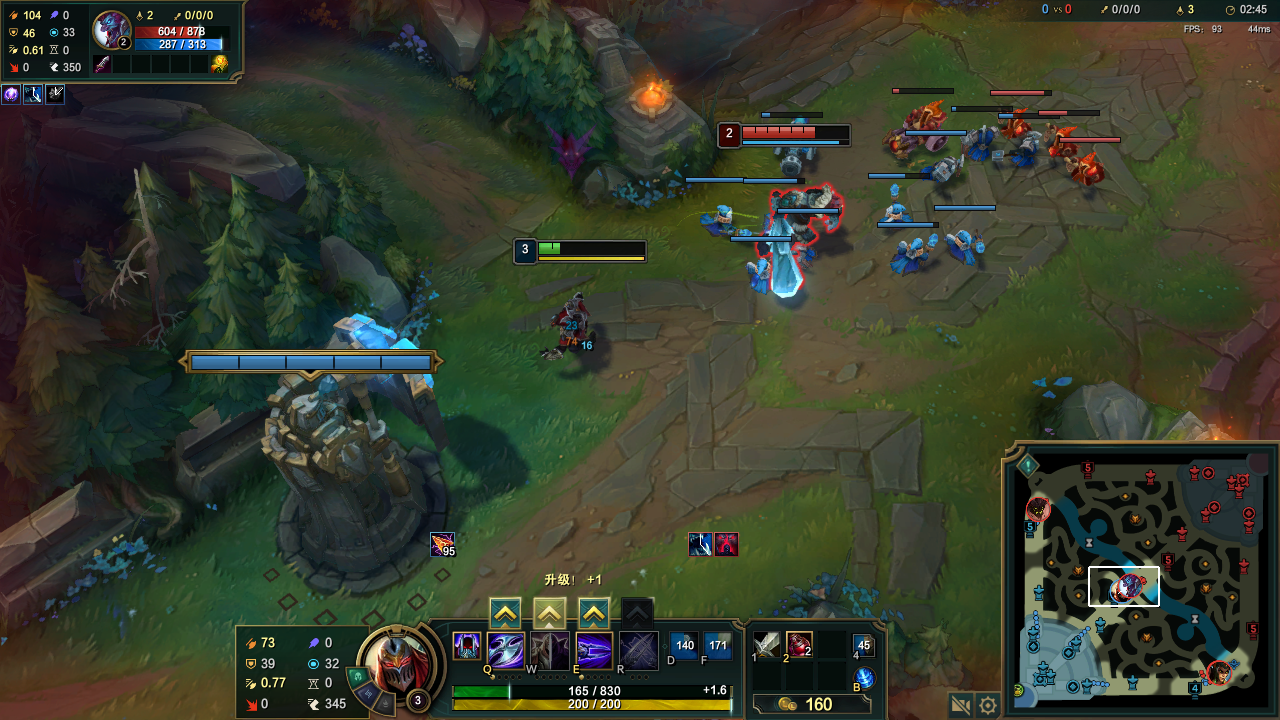DFYX: (741, 125, 849, 139)
